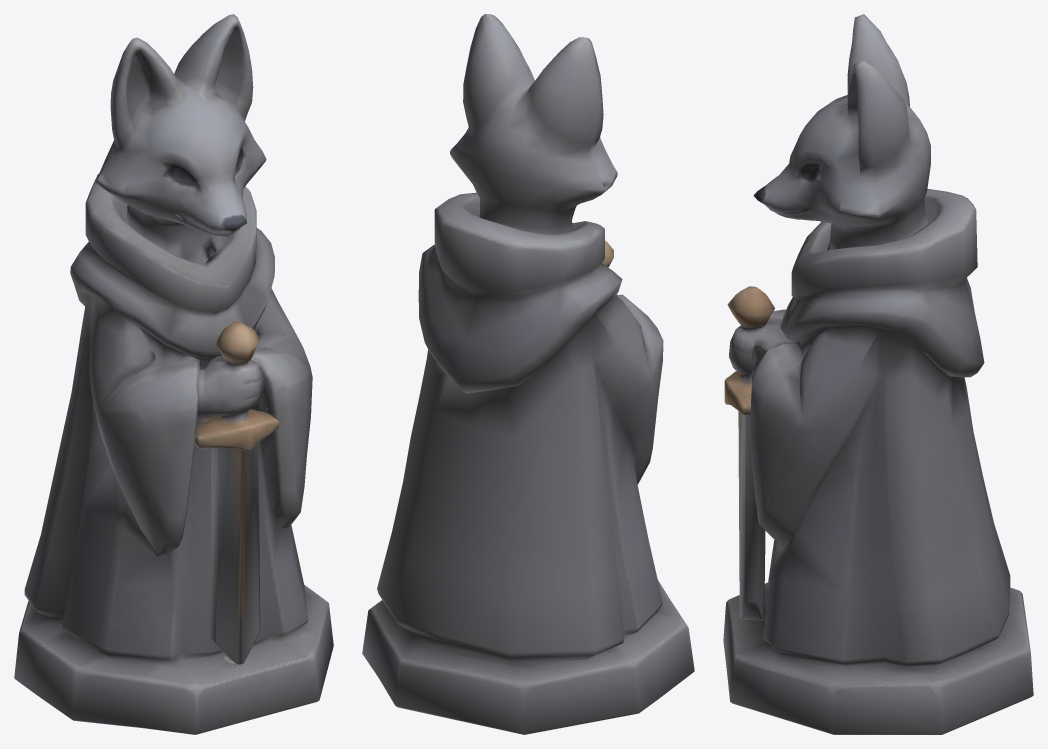
Rendered from FoxStatue.fbx.
The picture shows the model from 3 angles, left to right: view 1: azimuth 30°, elevation 25°; view 2: azimuth 150°, elevation 25°; view 3: azimuth 270°, elevation 25°; orthographic projection.
Parts seen in each view (by area): view 1: FoxStatue_Source_Preserved; view 2: FoxStatue_Source_Preserved; view 3: FoxStatue_Source_Preserved.
Boxes of the visible parts, x1,y1,x2,y2 form: FoxStatue_Source_Preserved: [14, 14, 333, 734]; FoxStatue_Source_Preserved: [362, 14, 694, 734]; FoxStatue_Source_Preserved: [723, 14, 1033, 734].
Bounding box in the file's own units: 44.25 × 99.61 × 44.25.
1 material, 1 textured.
